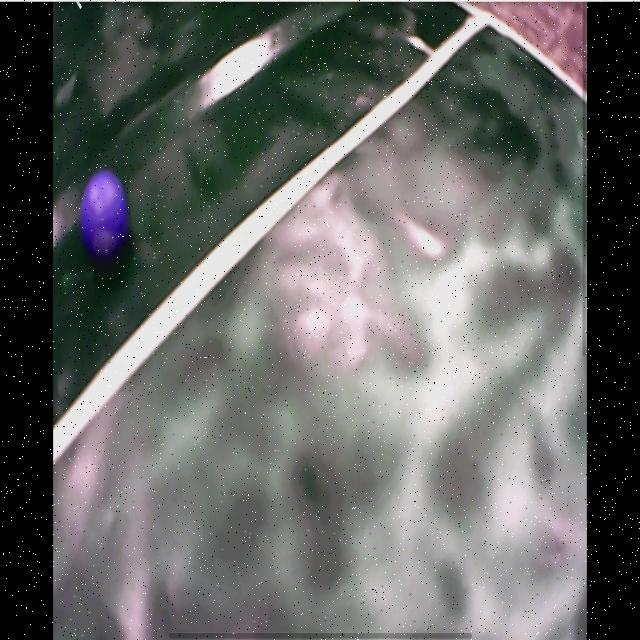ball: (80, 171, 128, 254)
